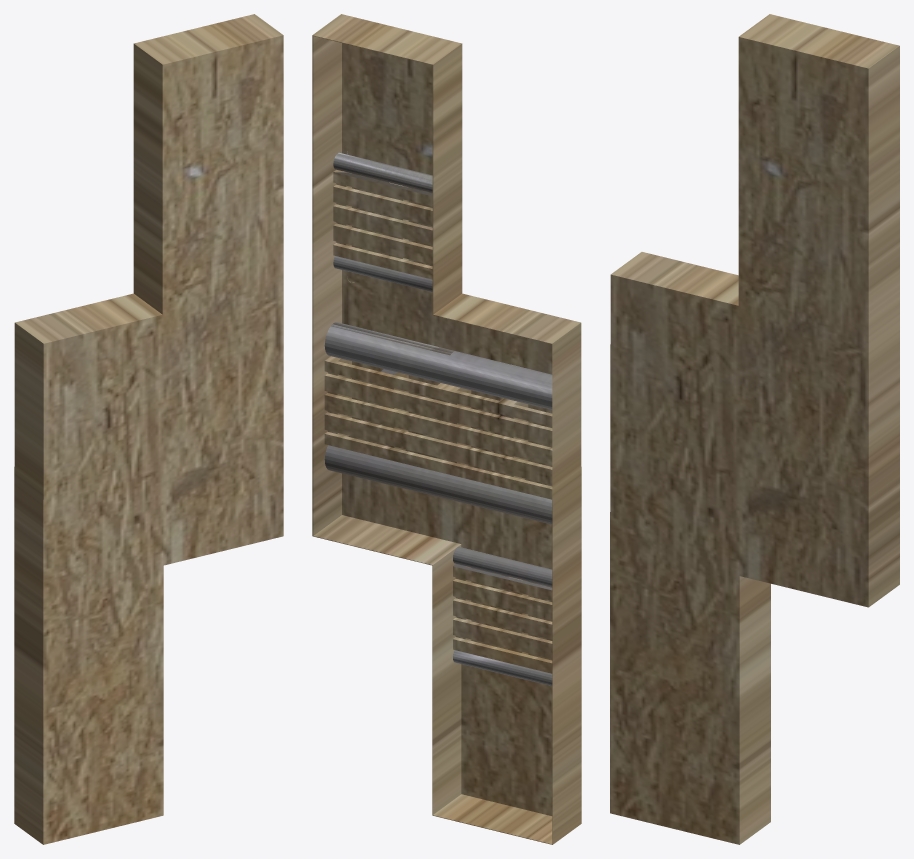
Rendered from pallette_pipes.dae.
3 views of the same model, side by side, from view 1: azimuth 30°, elevation 25°; view 2: azimuth 150°, elevation 25°; view 3: azimuth 330°, elevation 25° (orthographic). The views are drawn at different scales.
Visible parts, largest first — view 1: Pallette Pipes; view 2: Pallette Pipes; view 3: Pallette Pipes.
Part boxes in pixels (bbox=[...]): Pallette Pipes: bbox=[14, 14, 283, 844]; Pallette Pipes: bbox=[312, 14, 581, 844]; Pallette Pipes: bbox=[610, 14, 899, 844].
Size of the model in its own units: 242 by 50.5 by 721.
2 materials, 2 textured.
